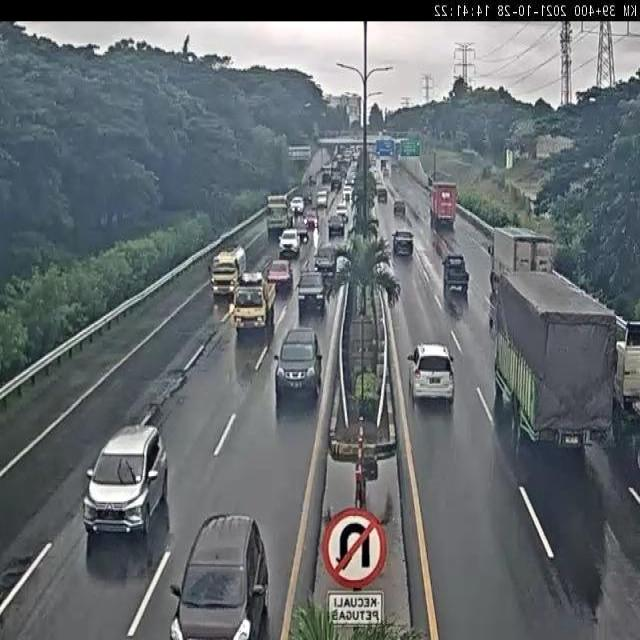Car: (168, 513, 269, 637), (83, 420, 169, 535), (273, 326, 323, 409), (408, 342, 456, 406), (266, 258, 293, 292), (314, 245, 338, 280), (278, 228, 302, 258), (304, 209, 318, 230), (290, 196, 304, 215), (336, 201, 348, 223), (316, 189, 328, 208), (342, 186, 352, 204)
Truck: (491, 269, 616, 459), (486, 224, 556, 282), (231, 269, 276, 334), (210, 244, 247, 300), (296, 270, 327, 317), (430, 181, 458, 230), (442, 254, 470, 299), (266, 193, 290, 238), (392, 230, 414, 257), (327, 214, 345, 236), (319, 165, 332, 182)
